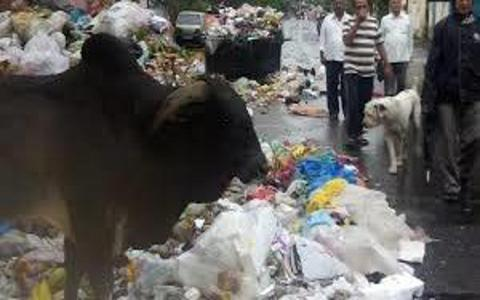overflowing garbage: (204, 8, 313, 105)
